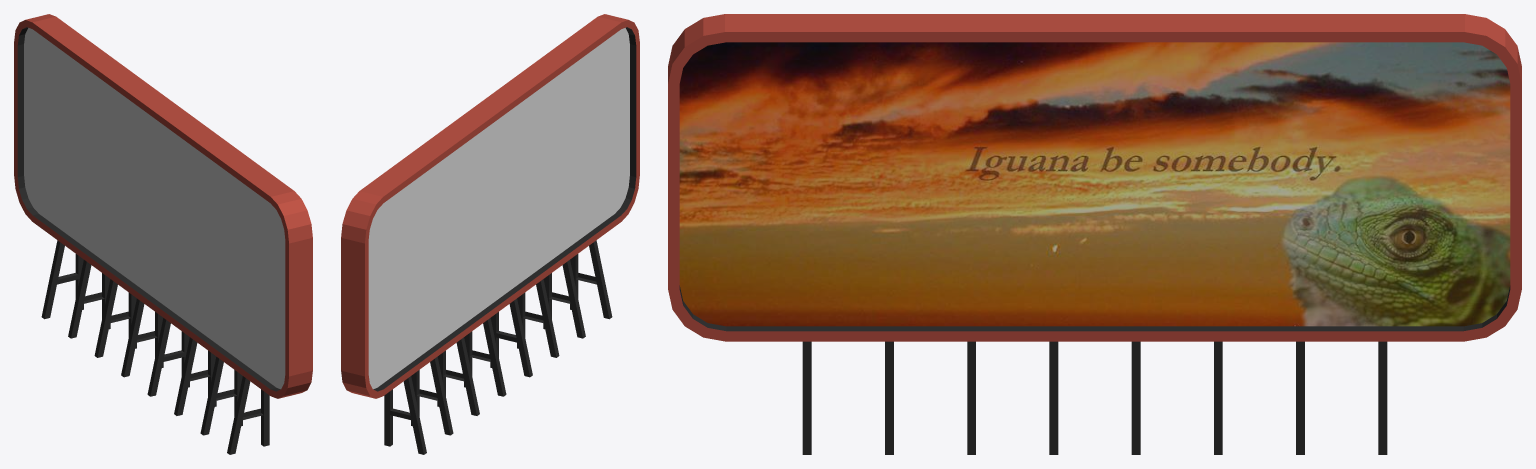
File: billboard.glb
The picture shows the model from 3 angles, left to right: view 1: azimuth 30°, elevation 25°; view 2: azimuth 150°, elevation 25°; view 3: azimuth 270°, elevation 25°; orthographic projection. The views are drawn at different scales.
Visible parts, largest first — view 1: Plane; view 2: Plane; view 3: Plane.
Part boxes in pixels (<box>): Plane: <box>14,14,312,454</box>; Plane: <box>341,14,639,454</box>; Plane: <box>668,14,1521,454</box>.
Bounding box in the file's own units: 1.25 × 8.2 × 15.
4 materials, 1 textured.
